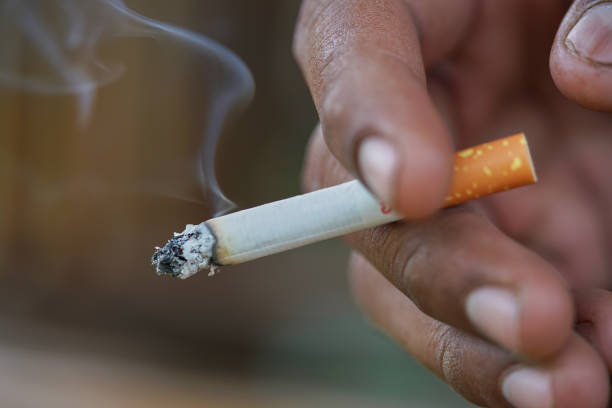cigarette: (149, 134, 537, 282)
